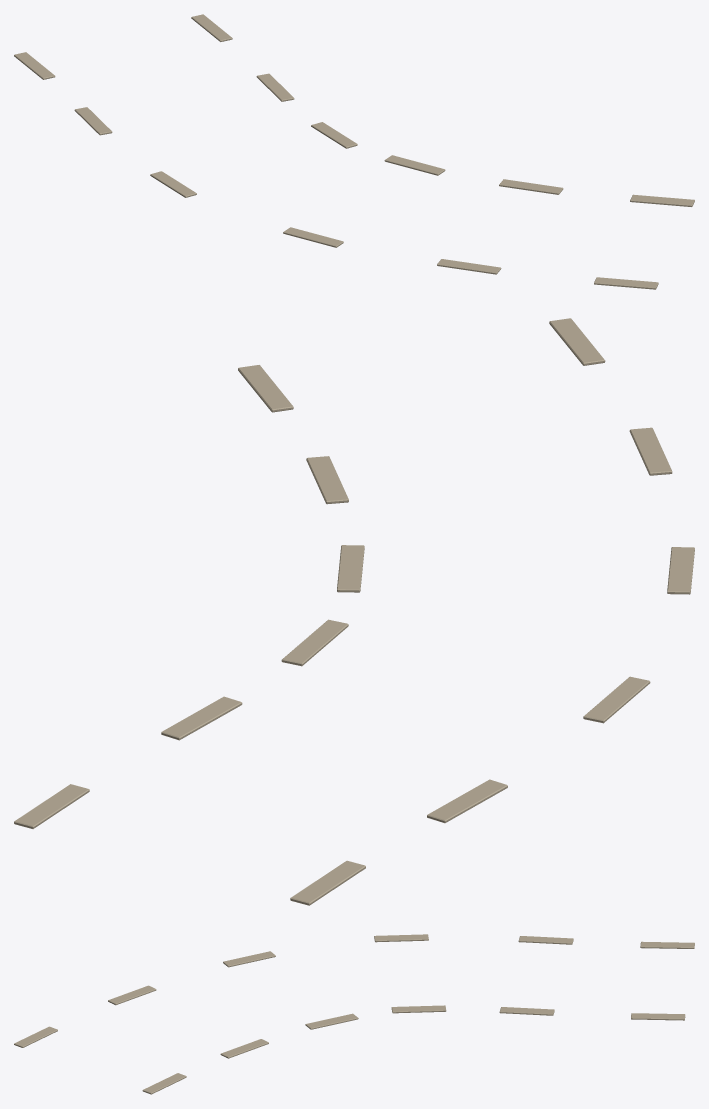
Rendered from Sector8_SandstoneTrim_1.fbx.
The picture shows the model from 3 angles, top to bottom: view 1: azimuth 30°, elevation 25°; view 2: azimuth 150°, elevation 25°; view 3: azimuth 270°, elevation 25°; orthographic projection. The views are drawn at different scales.
Parts seen in each view (by area): view 1: Sector8_SandstoneTrim_1; view 2: Sector8_SandstoneTrim_1; view 3: Sector8_SandstoneTrim_1.
Part boxes in pixels (left/top/right/bottom): Sector8_SandstoneTrim_1: left=14, top=14, right=694, bottom=289; Sector8_SandstoneTrim_1: left=14, top=318, right=694, bottom=905; Sector8_SandstoneTrim_1: left=14, top=934, right=694, bottom=1094.
Bounding box in the file's own units: 17788 × 85 × 32206.
